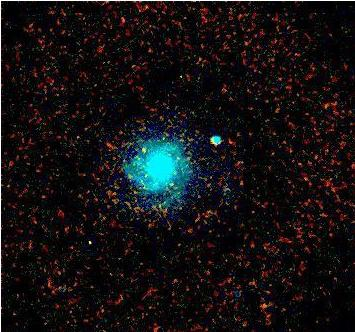star: (126, 134, 156, 164)
